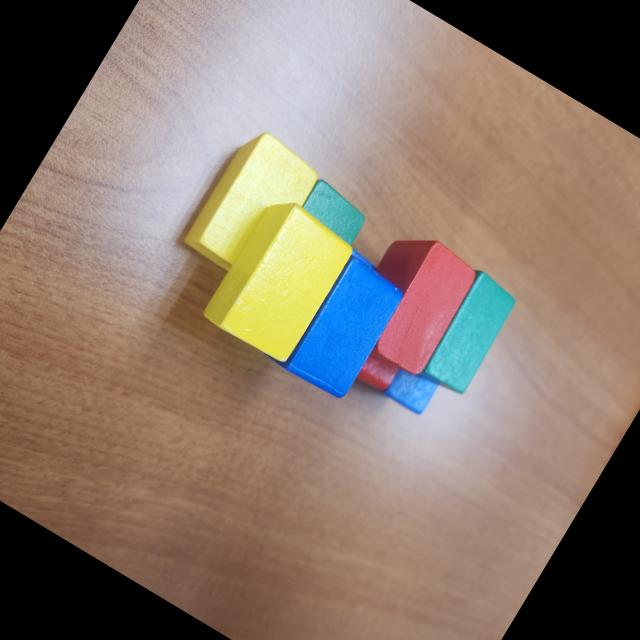blue: (261, 241, 412, 406), (380, 358, 442, 419)
green: (414, 267, 524, 401), (294, 176, 375, 247)
red: (333, 222, 482, 385), (353, 334, 410, 396)
yellow: (199, 192, 359, 366), (177, 122, 326, 288)
